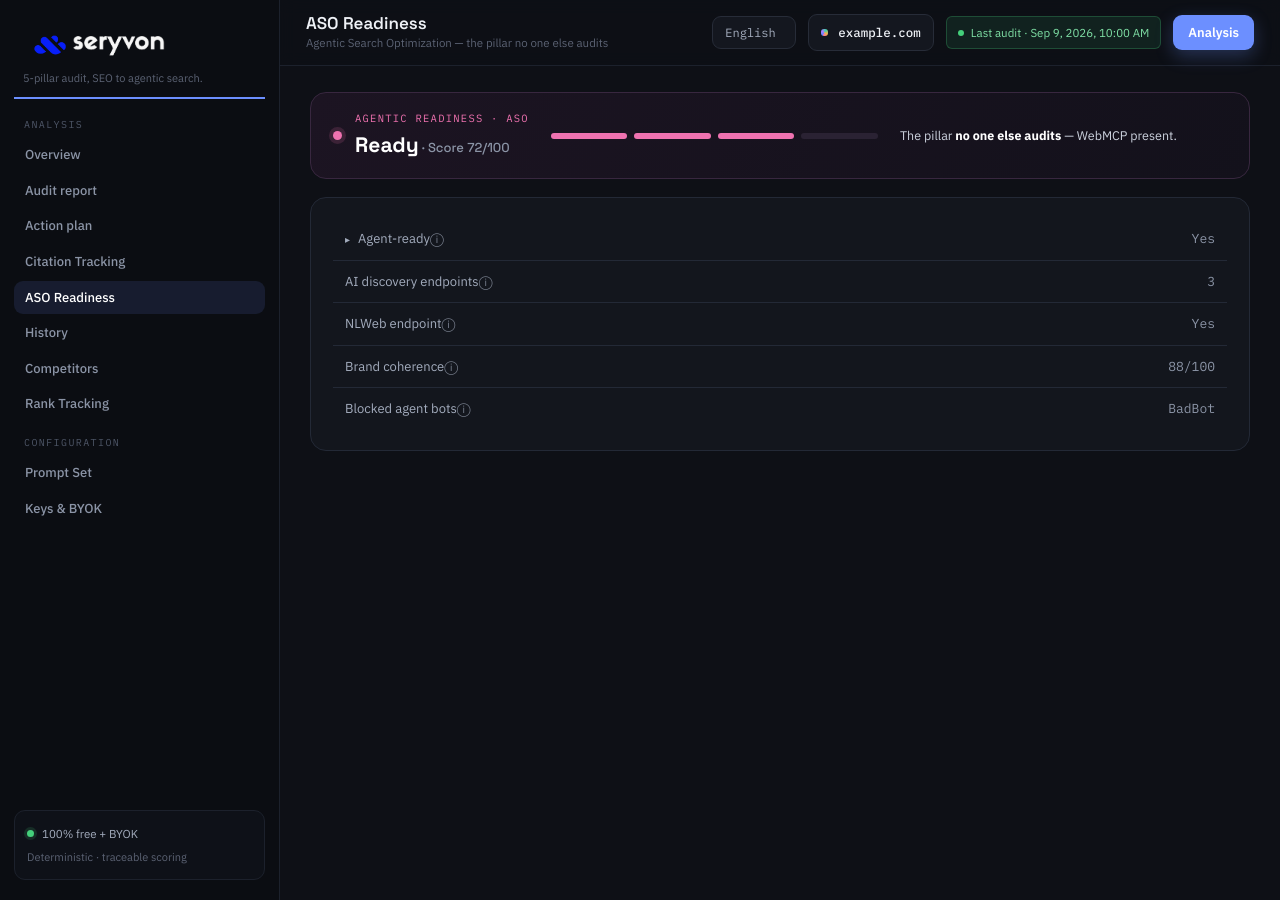
renders ASO readiness details
This screenshot has width=1280, height=900.
expect the text "3" is shown: met, box [966,260,1227,303]
expect the text "88/100" is shown: met, box [966,345,1227,388]
Click the row "▸ Agent-ready ⓘ Yes" at (780, 239), box [333,218,1227,260]
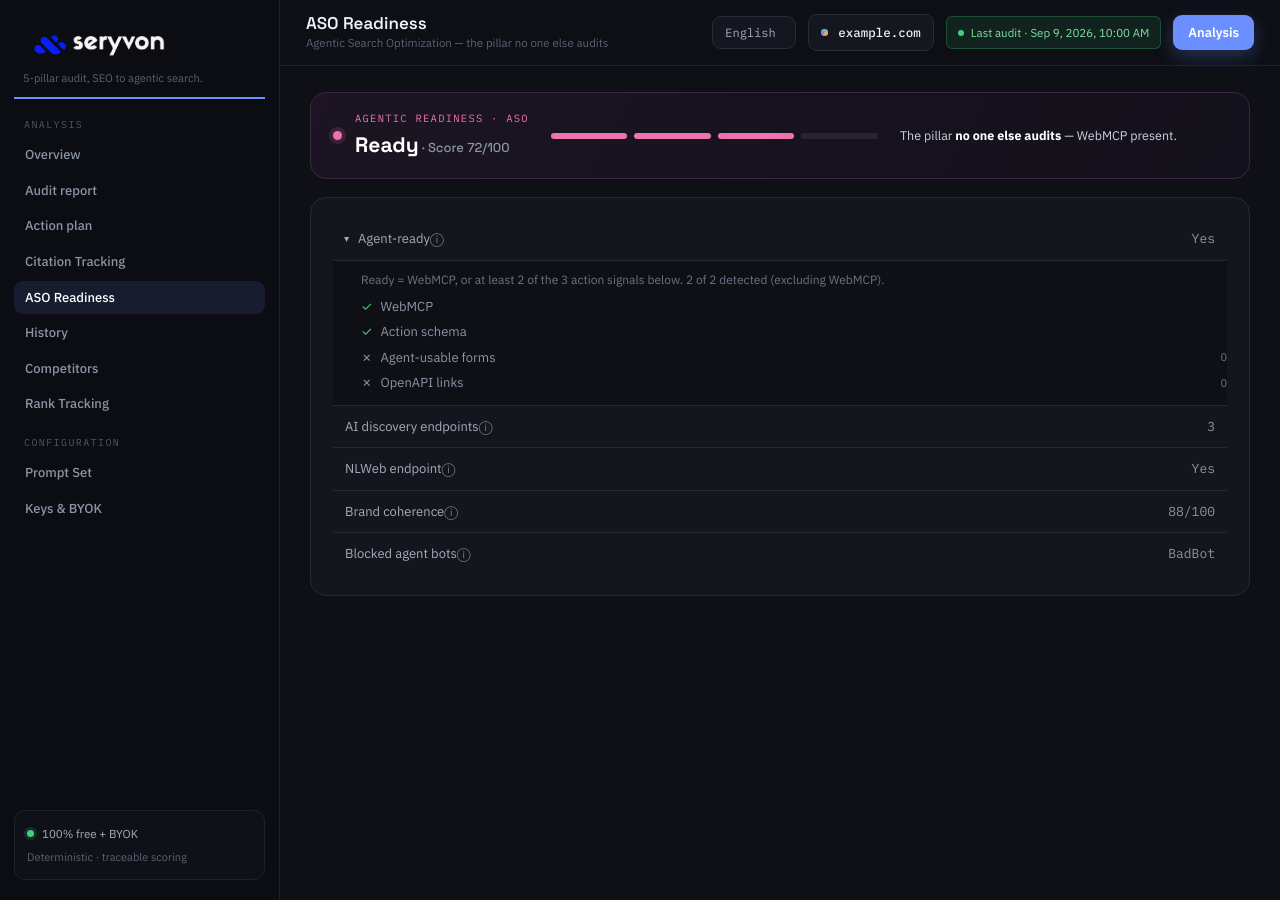
expect the text "✓ Action schema" is shown: met, box [361,322,467,342]
